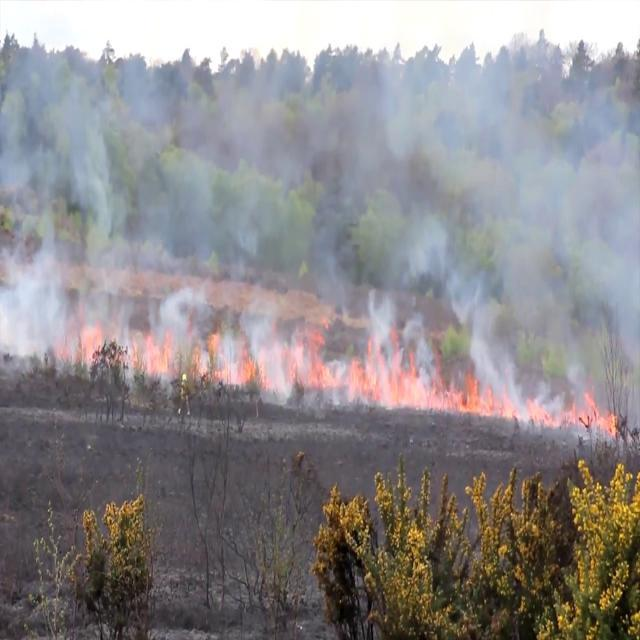Fire: (279, 316, 618, 440), (54, 302, 176, 375), (190, 326, 272, 390)
Smoke: (1, 47, 640, 445)
